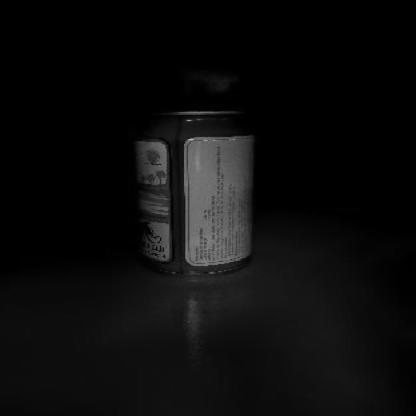alumunium_can: (126, 108, 258, 278)
